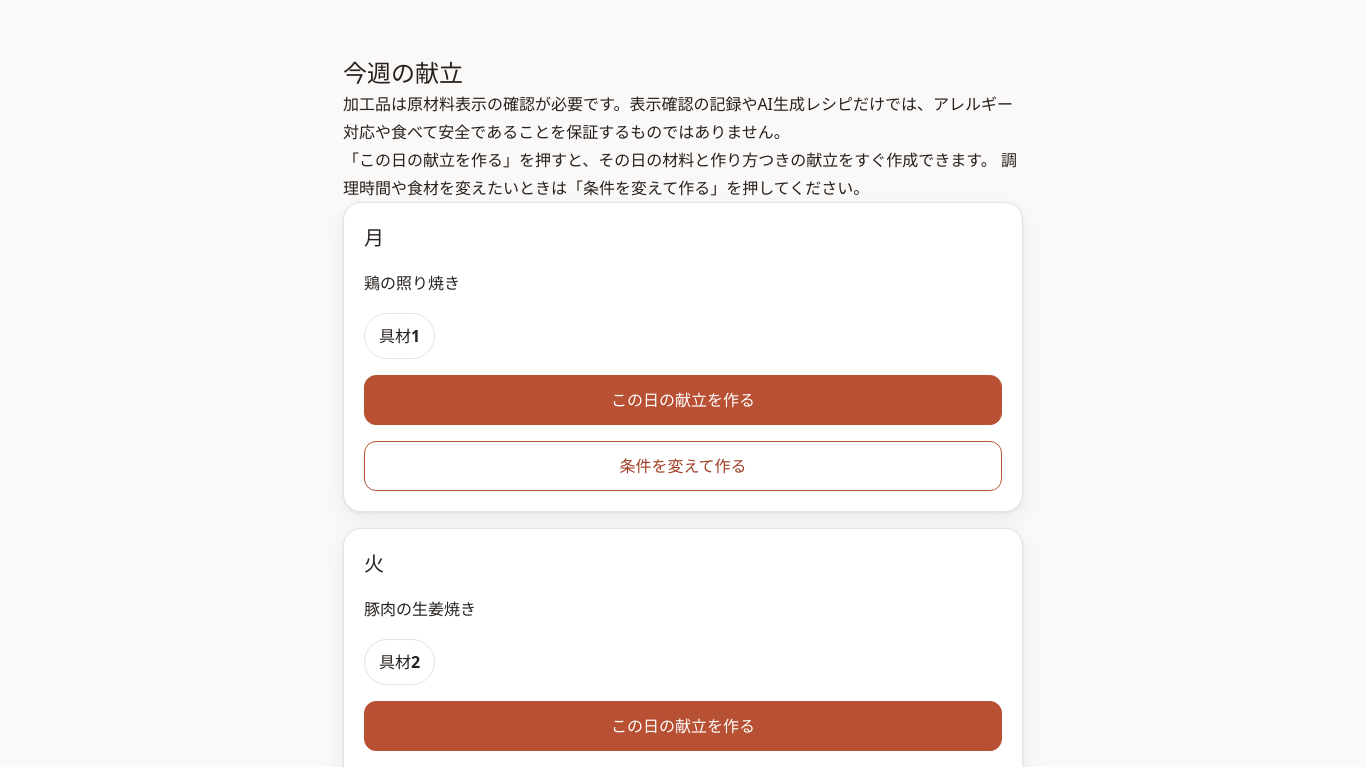
Test: WeeklyPlanResultPage › closes the overwrite dialog on Escape without saving
The width and height of the screenshot is (1366, 767).
Click the button "この日の献立を作る" below "鶏の照り焼き" at (683, 400), box x1=364 y1=375 x2=1002 y2=425
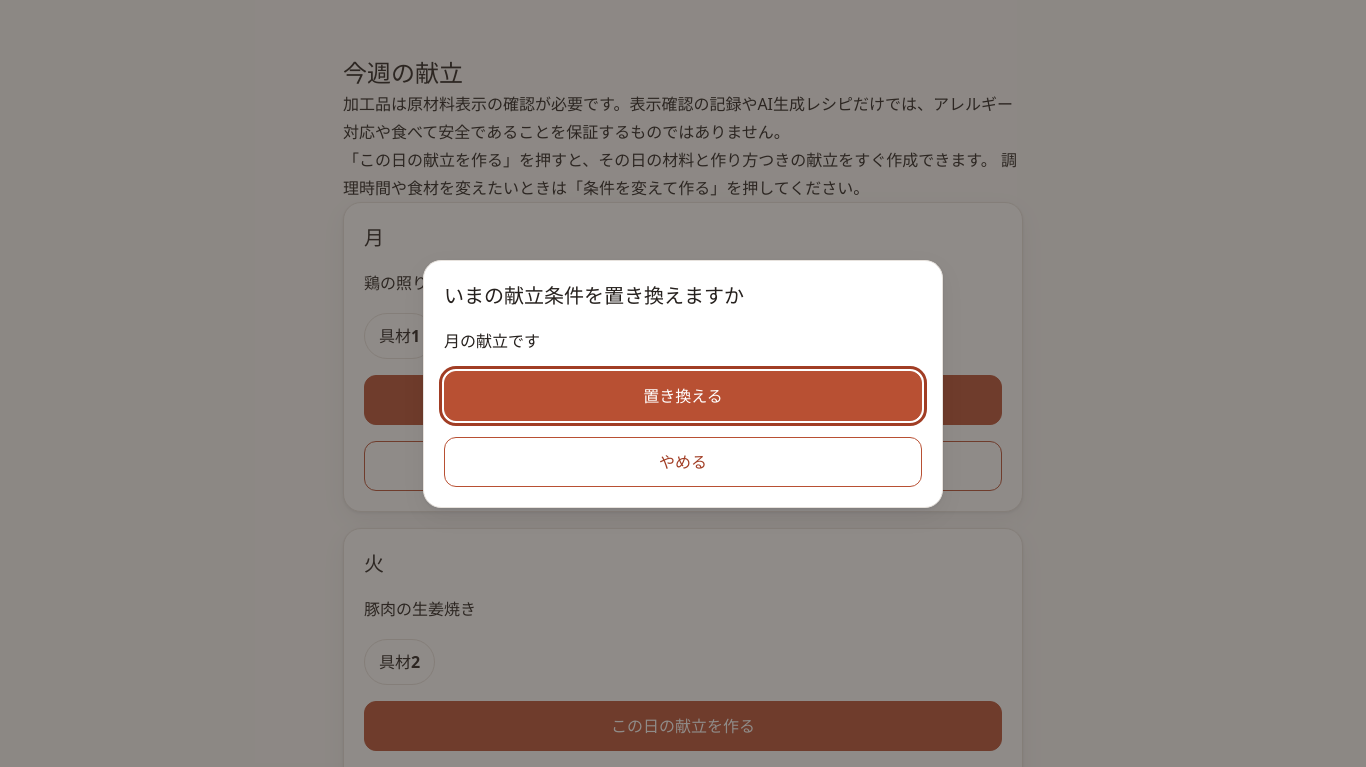
Check: the dialog is shown, box x1=423 y1=260 x2=943 y2=508
Press Escape
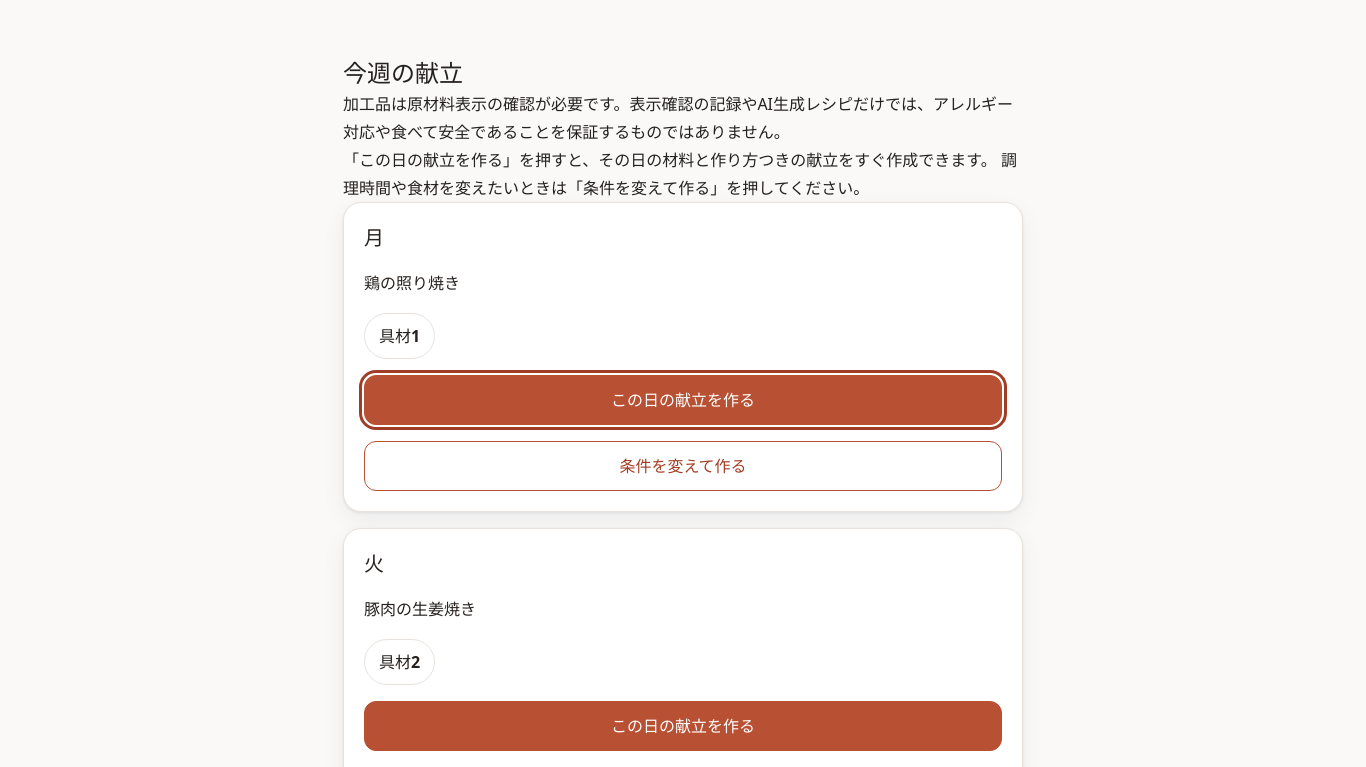
Check: the dialog is gone
